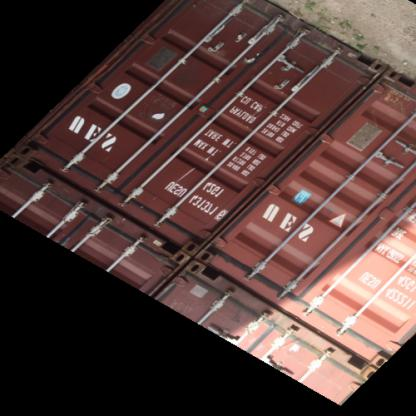Damage: (260, 34, 360, 114)
